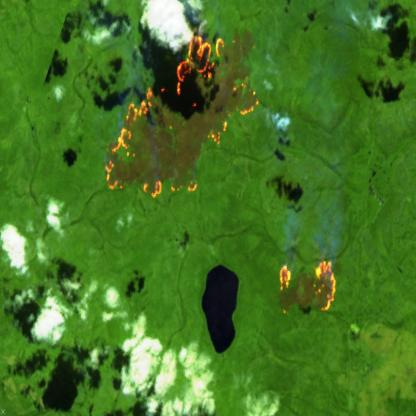fire: (99, 27, 264, 207), (272, 257, 340, 321)
